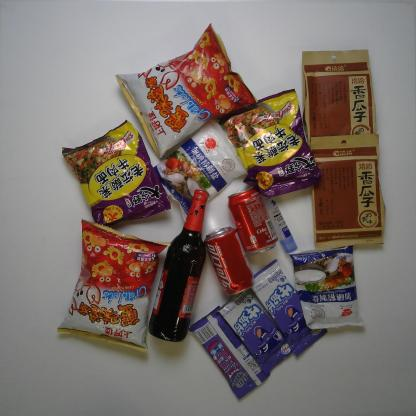Alcohol: (147, 189, 211, 344)
Candy: (250, 256, 332, 357), (191, 306, 272, 398), (219, 285, 297, 371)
Dried Food: (308, 128, 388, 250), (297, 43, 378, 146)
Drink: (204, 225, 254, 295), (225, 187, 277, 254)
Instant Noodles: (59, 120, 174, 229), (217, 87, 321, 200)
Puffed Food: (109, 20, 259, 157), (52, 218, 170, 354)
Seasoner: (153, 115, 249, 219), (285, 243, 364, 335)
Stationery: (262, 197, 296, 254)
